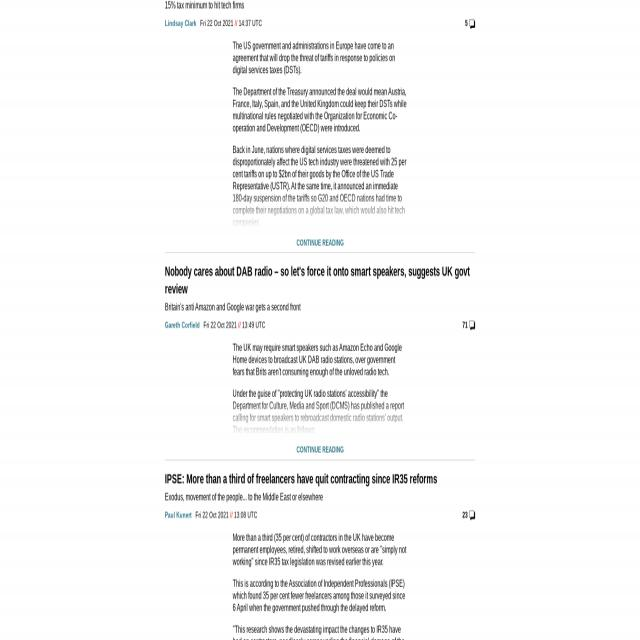button: (469, 163, 475, 173), (469, 352, 475, 362)
field: (329, 630, 536, 636)
